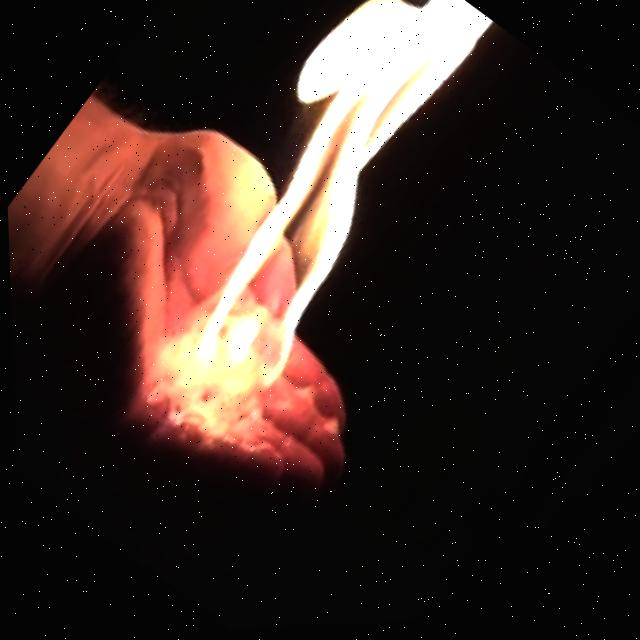Fire: (87, 0, 539, 446)
